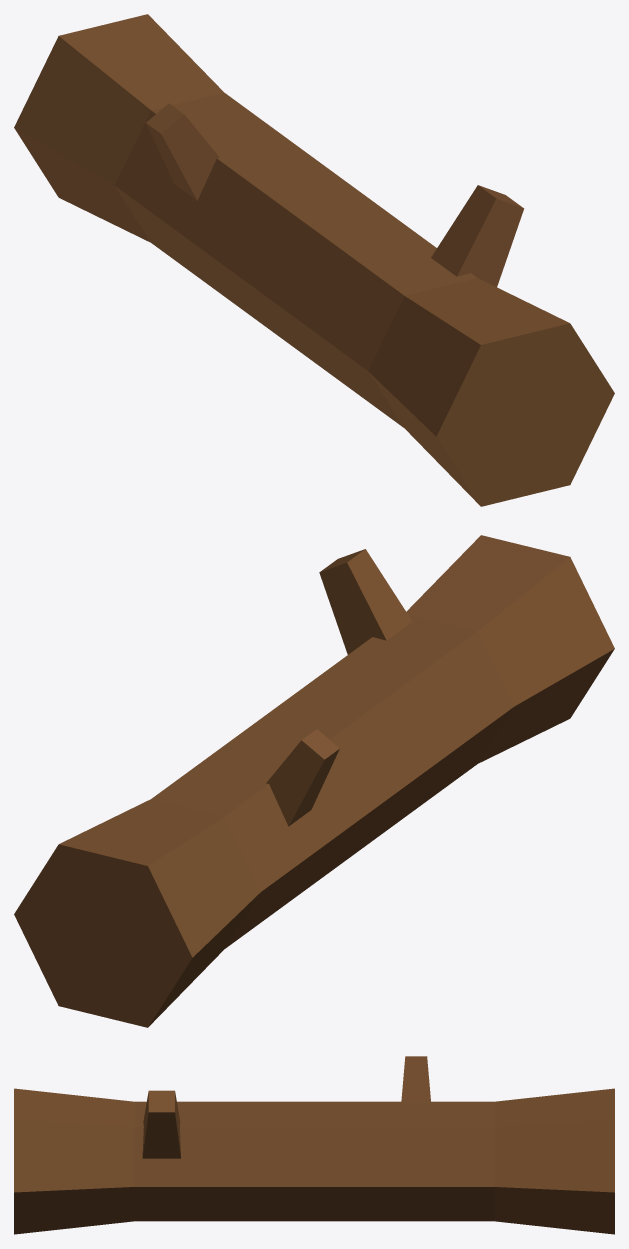
The model's file is kenney_survival-kit__tree-log__meadow.fbx.
3 renders of one model, top to bottom at view 1: azimuth 30°, elevation 25°; view 2: azimuth 150°, elevation 25°; view 3: azimuth 270°, elevation 25°, orthographic. The views are drawn at different scales.
Parts seen in each view (by area): view 1: kenney_survival-kit__tree-log__meadow_wood; view 2: kenney_survival-kit__tree-log__meadow_wood; view 3: kenney_survival-kit__tree-log__meadow_wood.
Boxes of the visible parts, x1,y1,x2,y2 form: kenney_survival-kit__tree-log__meadow_wood: (14,14,614,506); kenney_survival-kit__tree-log__meadow_wood: (14,535,614,1027); kenney_survival-kit__tree-log__meadow_wood: (14,1056,614,1234).
Bounding box in the file's own units: 0.891 × 0.9898 × 3.57.
1 material, 1 textured.
